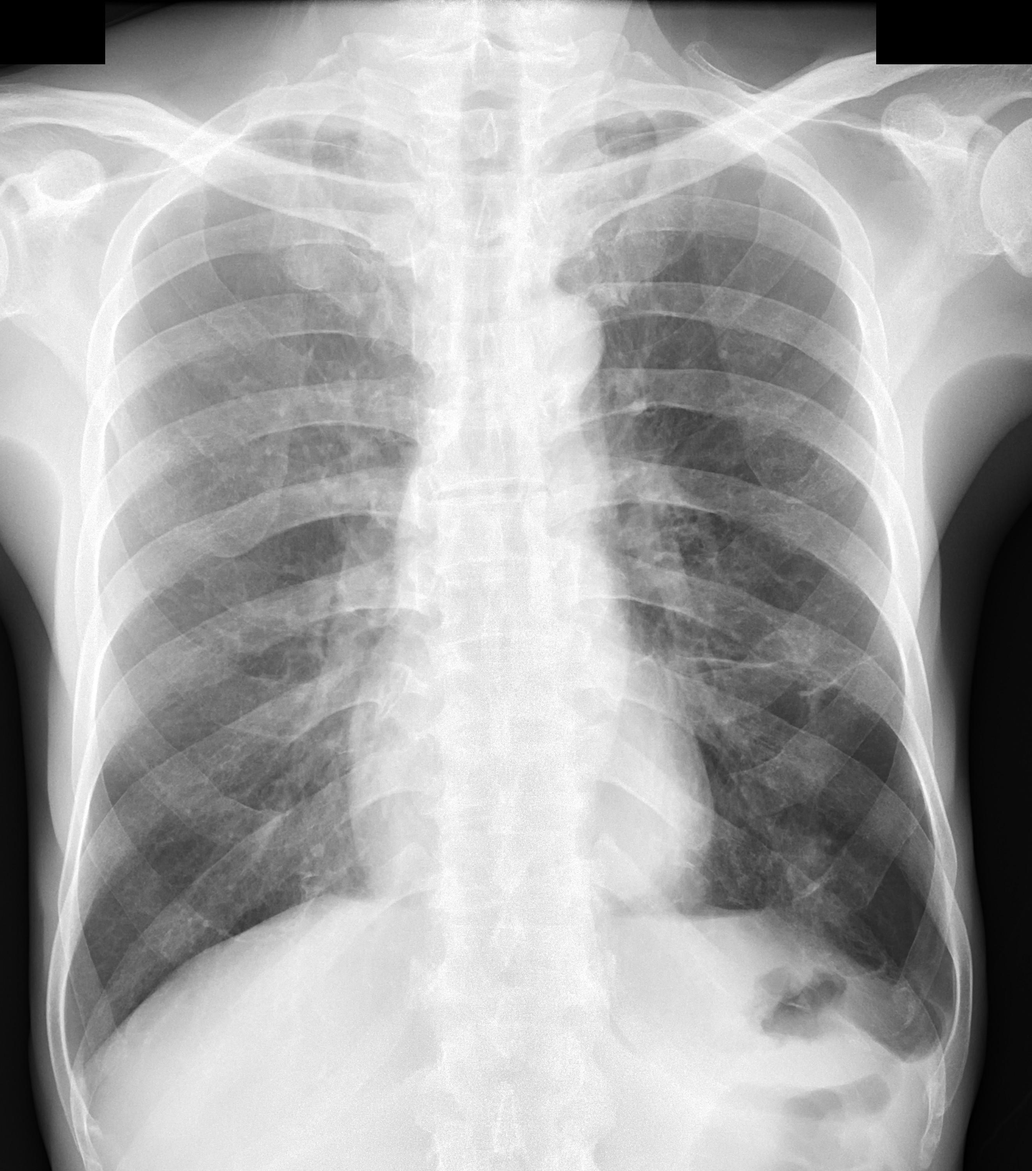Aortic enlargement: (505, 293, 601, 390)
Pleural thickening: (879, 996, 952, 1082)
Pulmonary fibrosis: (797, 641, 883, 703)
